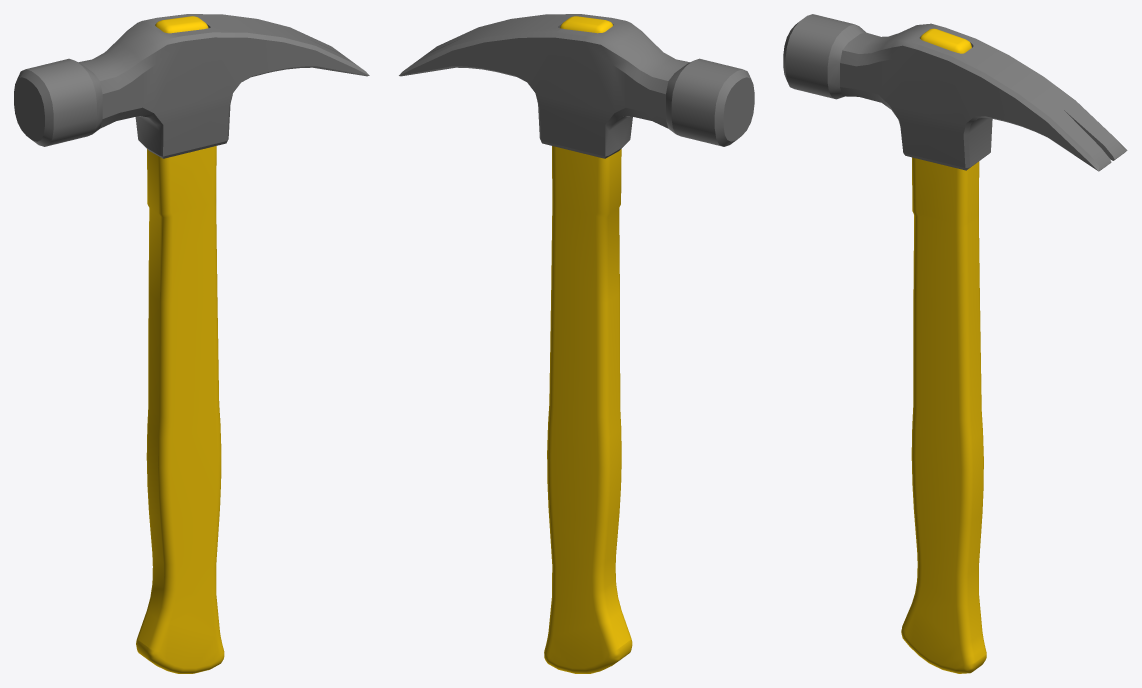
The model's file is Hammer2.fbx.
The picture shows the model from 3 angles, left to right: view 1: azimuth 30°, elevation 25°; view 2: azimuth 150°, elevation 25°; view 3: azimuth 330°, elevation 25°; orthographic projection. The views are drawn at different scales.
Parts seen in each view (by area): view 1: Hammer.001, Hammer; view 2: Hammer.001, Hammer; view 3: Hammer.001, Hammer.
Part boxes in pixels (left/top/right/bottom): Hammer.001: left=136, top=16, right=224, bottom=673; Hammer: left=14, top=14, right=369, bottom=158; Hammer.001: left=544, top=16, right=632, bottom=673; Hammer: left=399, top=14, right=754, bottom=158; Hammer.001: left=901, top=28, right=986, bottom=673; Hammer: left=783, top=14, right=1127, bottom=171.
Size of the model in its own units: 162 by 310 by 32.16.
